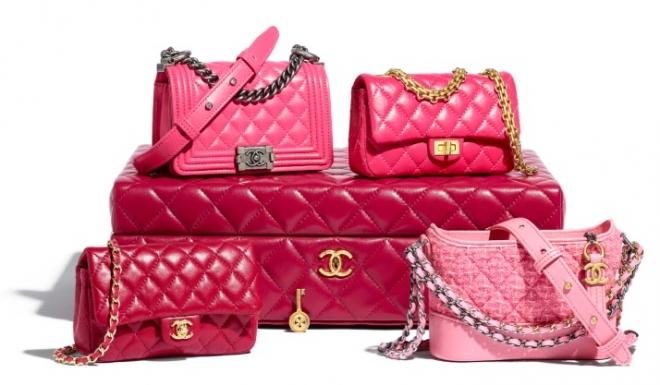channel: (417, 212, 660, 358), (141, 36, 347, 181), (336, 54, 549, 183), (76, 239, 269, 349), (313, 238, 367, 278), (575, 257, 615, 293), (164, 319, 210, 343), (236, 148, 280, 169), (428, 142, 465, 166)
